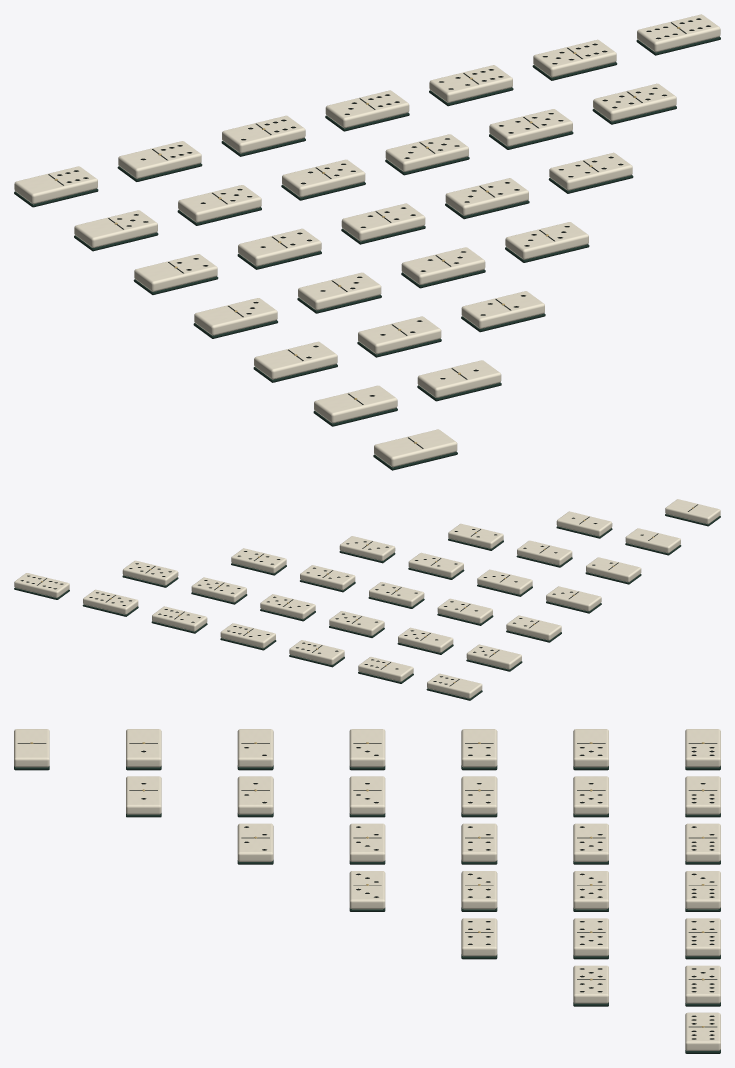
Rendered from dominoes.glb.
3 views of the same model, one above another, from view 1: azimuth 30°, elevation 25°; view 2: azimuth 150°, elevation 25°; view 3: azimuth 270°, elevation 25° (orthographic). The views are drawn at different scales.
Parts seen in each view (by area): view 1: Domino body, Domino body.005, Domino body.007, Domino body.001, Domino body.013, Domino body.014, Domino body.002, Domino body.008, Domino body.009, Domino body.003, Domino body.004, Domino body.006 (+16 smaller); view 2: Domino body.007, Domino body.018, Domino body, Domino body.001, Domino body.002, Domino body.003, Domino body.008, Domino body.019, Domino body.004, Domino body.006, Domino body.010, Domino body.016 (+16 smaller); view 3: Domino body.002, Domino body.003, Domino body.008, Domino body.013, Domino body.014, Domino body.004, Domino body.009, Domino body.010, Domino body.015, Domino body.018, Domino body.019, Domino body.022 (+16 smaller).
Part boxes in pixels (x1,y1,x2,y2): Domino body: (374,429,457,467); Domino body.005: (74,210,157,247); Domino body.007: (417,360,501,397); Domino body.001: (314,385,397,423); Domino body.013: (461,291,544,328); Domino body.014: (401,247,485,284); Domino body.002: (254,341,337,379); Domino body.008: (358,316,441,354); Domino body.009: (298,272,381,310); Domino body.003: (194,298,277,335); Domino body.004: (134,254,217,291); Domino body.006: (14,166,97,204); Domino body.007: (556,511,612,536); Domino body.018: (339,536,395,560); Domino body: (665,499,720,524); Domino body.001: (625,528,680,553); Domino body.002: (586,557,641,582); Domino body.003: (546,586,601,611); Domino body.008: (517,540,572,565); Domino body.019: (300,565,355,590); Domino body.004: (506,615,561,640); Domino body.006: (427,673,482,698); Domino body.010: (437,598,492,623); Domino body.016: (329,611,384,635); Domino body.002: (237,729,273,767); Domino body.003: (349,729,385,767); Domino body.008: (237,776,273,814); Domino body.013: (237,823,273,861); Domino body.014: (349,823,385,861); Domino body.004: (461,729,497,767); Domino body.009: (349,776,385,814); Domino body.010: (461,776,497,814); Domino body.015: (461,823,497,861); Domino body.018: (349,871,385,909); Domino body.019: (461,871,497,909); Domino body.022: (461,918,497,956).
Size of the model in its own units: 6.64 by 0.1305 by 6.32.
Materials: 4 (1 with a texture image).
